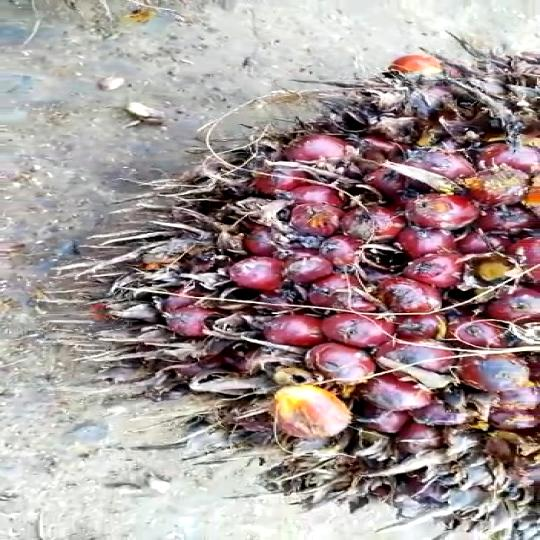masak: (108, 36, 540, 540)
